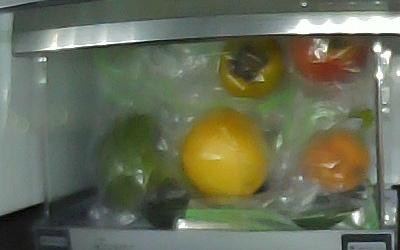apple_vinyl: (291, 35, 367, 83)
broccoli_vinyl: (95, 112, 180, 208)
cucumber_vinyl: (140, 200, 370, 229)
grapefruit_vinyl: (181, 107, 268, 196)
peach_vinyl: (299, 130, 369, 193)
persimmon_vinyl: (219, 37, 285, 99)
